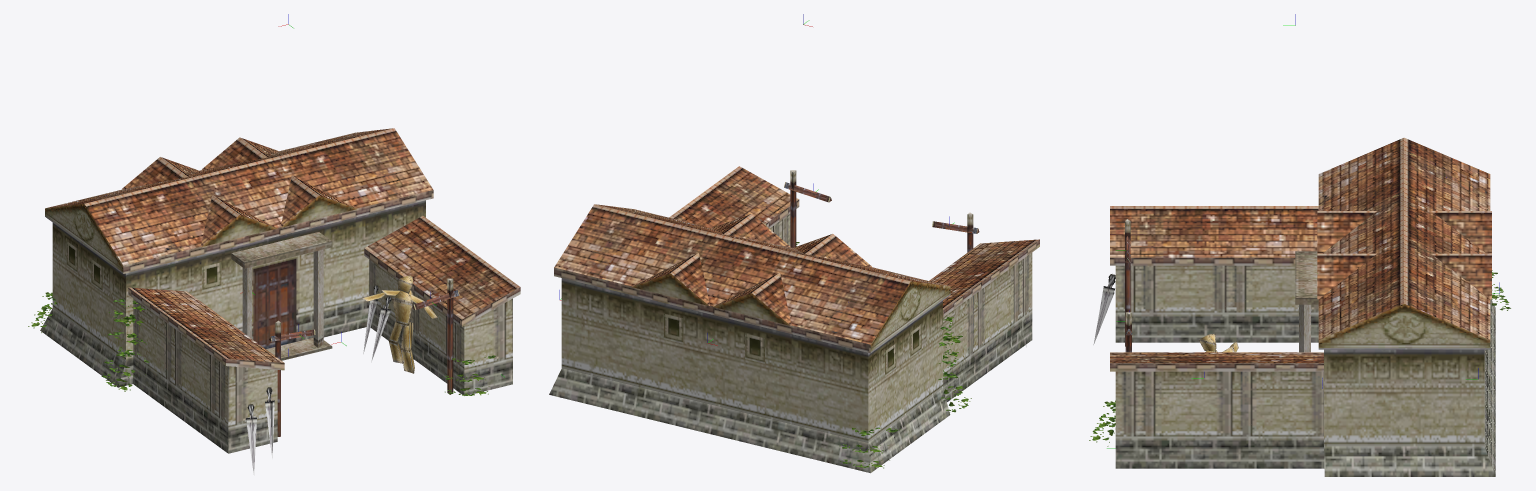
File: greek-barracks-age1.glb
The picture shows the model from 3 angles, left to right: view 1: azimuth 30°, elevation 25°; view 2: azimuth 150°, elevation 25°; view 3: azimuth 270°, elevation 25°; orthographic projection. The views are drawn at different scales.
Visible parts, largest first — view 1: building g barracksage1Model; view 2: building g barracksage1Model; view 3: building g barracksage1Model.
Part boxes in pixels (left/top/right/bottom): building g barracksage1Model: left=28, top=128, right=520, bottom=475; building g barracksage1Model: left=549, top=166, right=1039, bottom=473; building g barracksage1Model: left=1089, top=137, right=1510, bottom=476.
Size of the model in its own units: 8.61 by 8.72 by 8.97.
5 materials, 4 textured.
